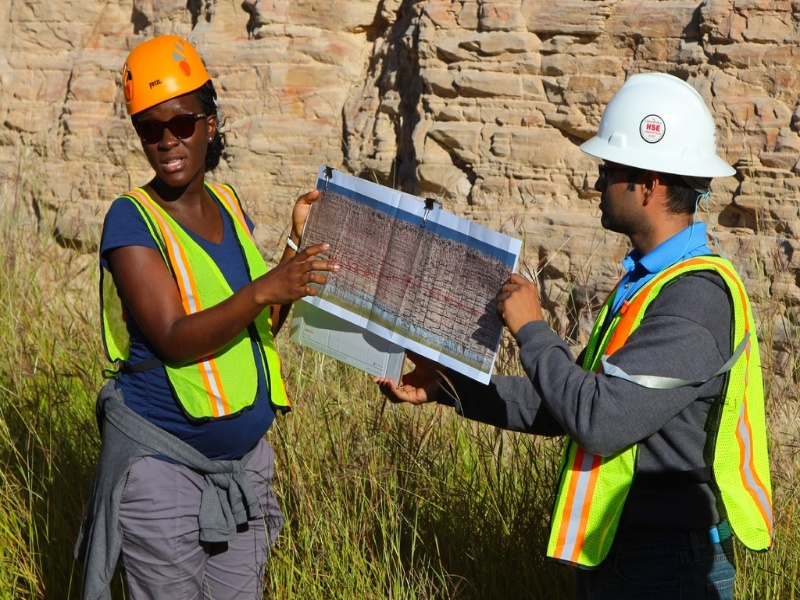Baret: (580, 70, 736, 177), (120, 35, 210, 113)
